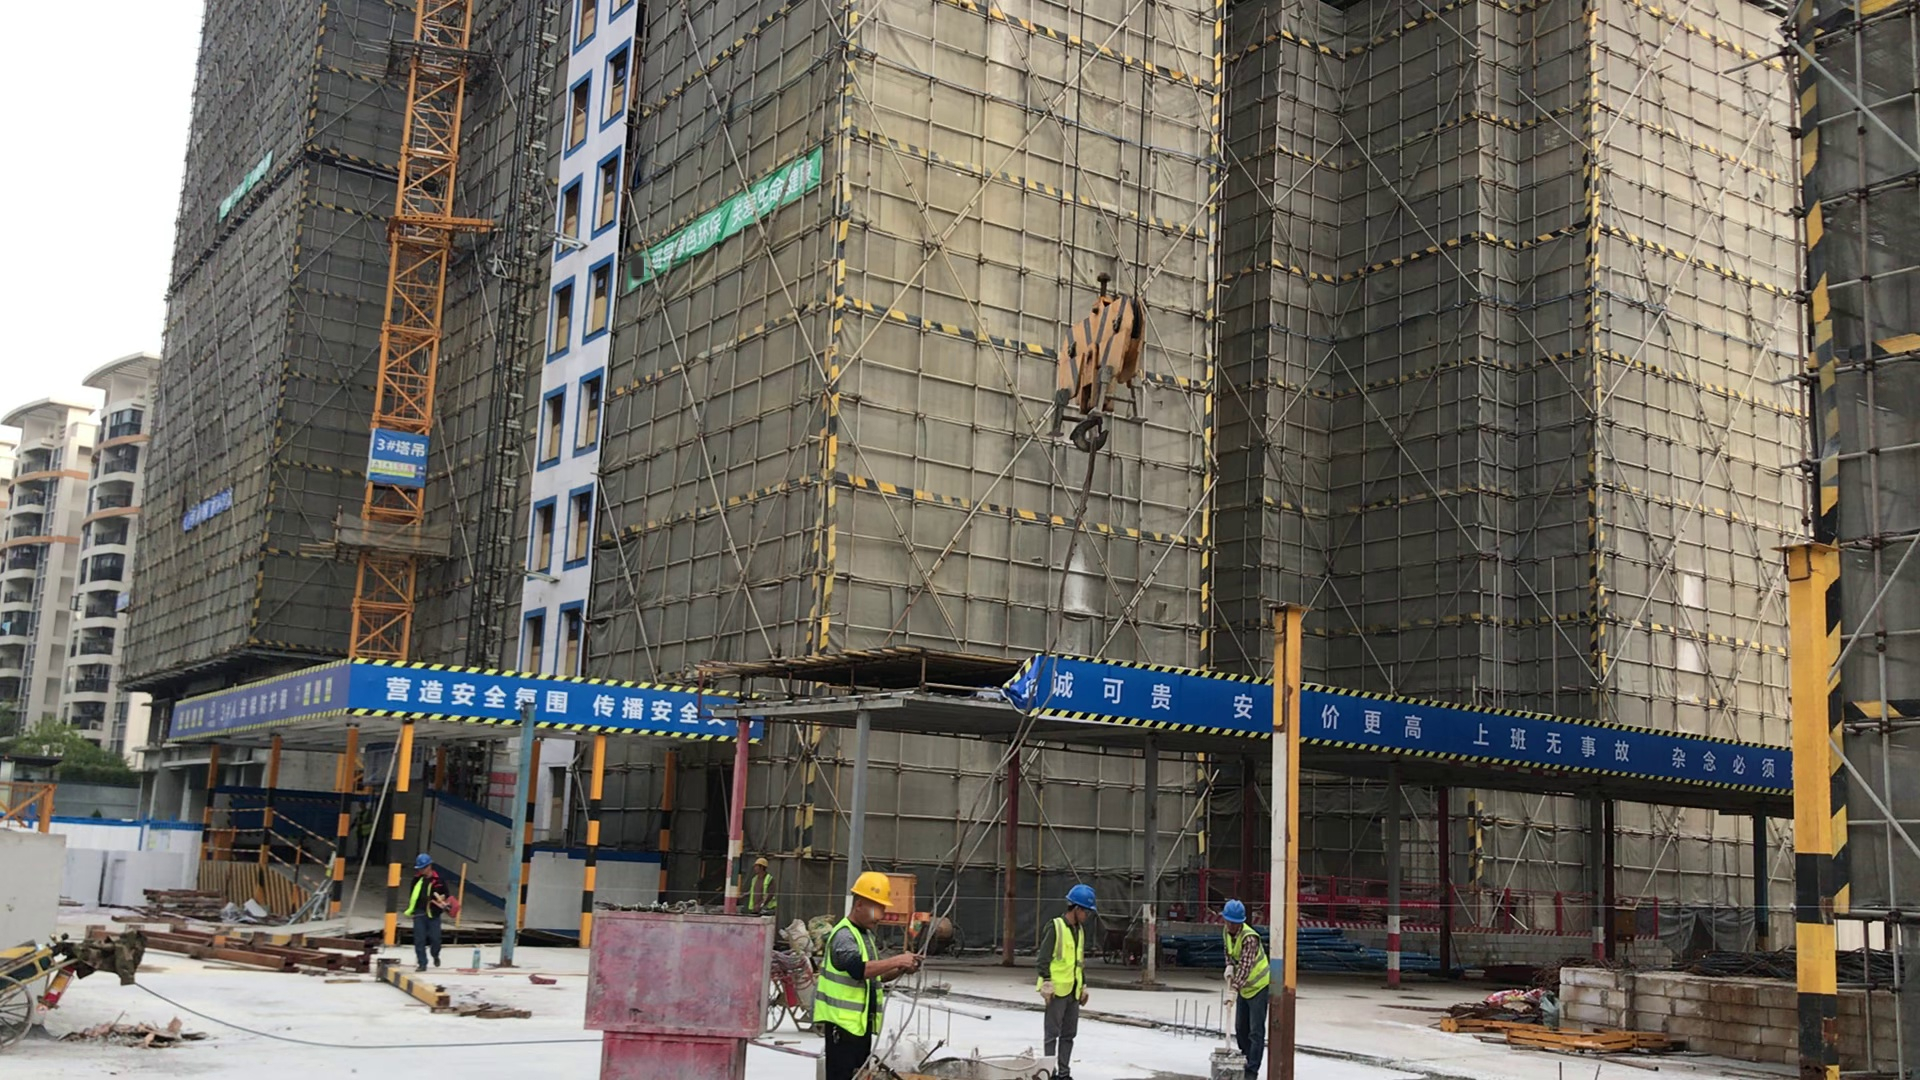brick: (1559, 953, 1870, 1067), (102, 848, 187, 911), (64, 841, 106, 910)
ebox: (890, 875, 919, 925)
fence: (1202, 864, 1656, 941)
helmet: (744, 857, 780, 916), (847, 869, 900, 906), (1064, 883, 1104, 910), (1220, 897, 1249, 923), (411, 848, 434, 870), (750, 857, 771, 867)
hook: (1041, 265, 1156, 456)
person: (800, 858, 921, 1080), (1017, 871, 1109, 1080), (1203, 894, 1298, 1080), (391, 848, 466, 985)
slogan: (1031, 652, 1776, 792), (363, 659, 745, 735), (618, 155, 820, 289), (168, 674, 362, 730), (211, 164, 269, 215), (179, 495, 232, 531)
vest: (811, 917, 885, 1033), (1034, 912, 1090, 995), (1214, 926, 1266, 993), (409, 881, 440, 916), (748, 875, 774, 909)
